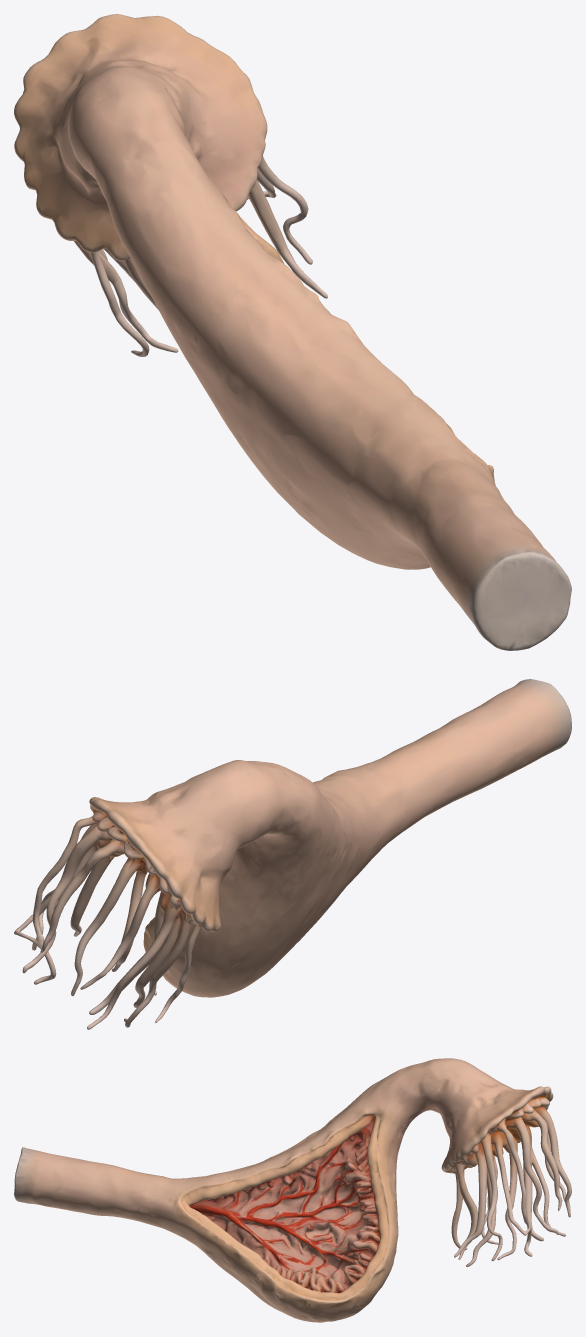
The model's file is uterine-tube.glb.
3 renders of one model, top to bottom at view 1: azimuth 30°, elevation 25°; view 2: azimuth 150°, elevation 25°; view 3: azimuth 270°, elevation 25°, orthographic. The views are drawn at different scales.
Parts seen in each view (by area): view 1: tripo_node_fdd175e2-34bc-426b-9e11-ca913bb81779; view 2: tripo_node_fdd175e2-34bc-426b-9e11-ca913bb81779; view 3: tripo_node_fdd175e2-34bc-426b-9e11-ca913bb81779.
Part boxes in pixels (box(x1,y1,x2,y2)): tripo_node_fdd175e2-34bc-426b-9e11-ca913bb81779: box(14, 14, 571, 650); tripo_node_fdd175e2-34bc-426b-9e11-ca913bb81779: box(14, 679, 571, 1029); tripo_node_fdd175e2-34bc-426b-9e11-ca913bb81779: box(14, 1058, 571, 1322).
Bounding box in the file's own units: 0.3137 × 0.4388 × 0.9999.
Materials: 1 (1 with a texture image).
